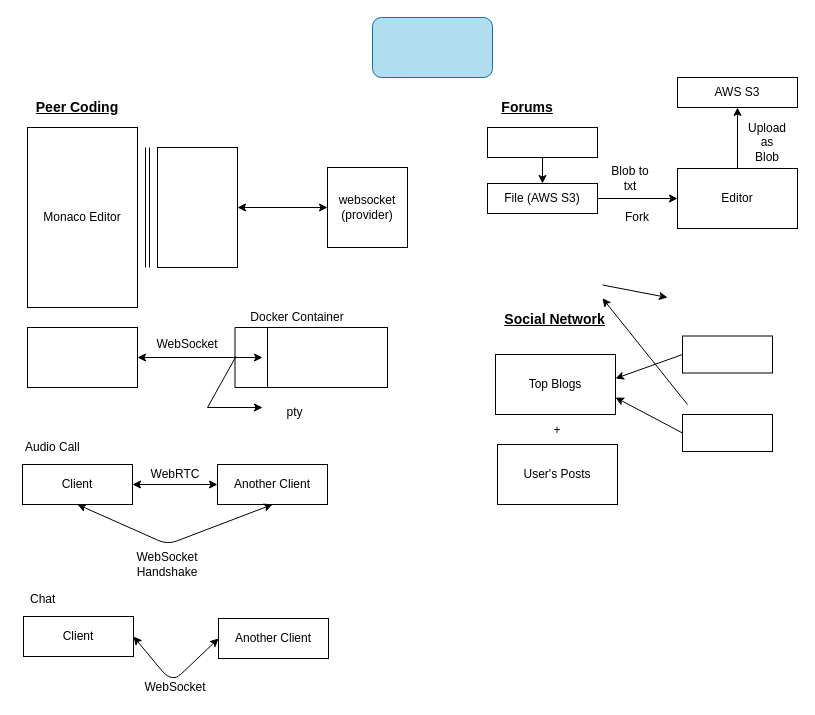
The diagram is 815 pixels wide and 715 high, and some of its shapes have lost their labels. Each missing label, with the centre of its shape:
"Algolia API" goes at point (727, 354).
"Monaco Bindings to CRDT" goes at point (197, 207).
"Question" goes at point (542, 142).
"Scrapers" goes at point (727, 433).
"Sudo: The Dev Network" goes at point (432, 47).
"Terminal" goes at point (82, 357).
